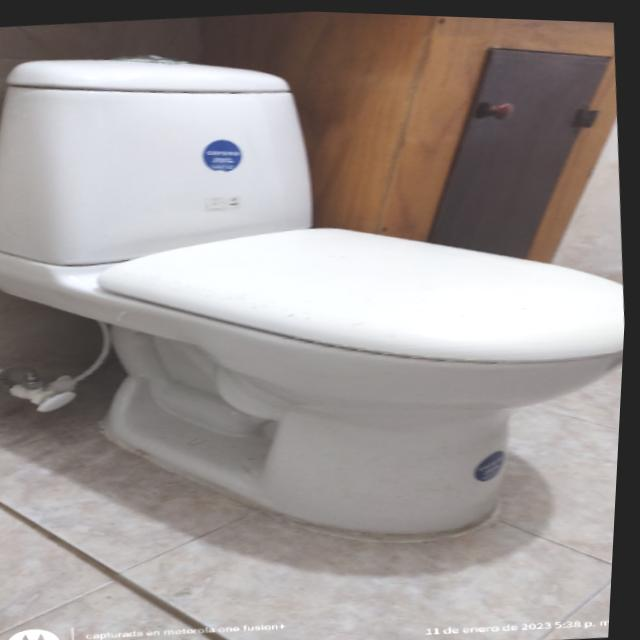toilet: (0, 7, 640, 577)
